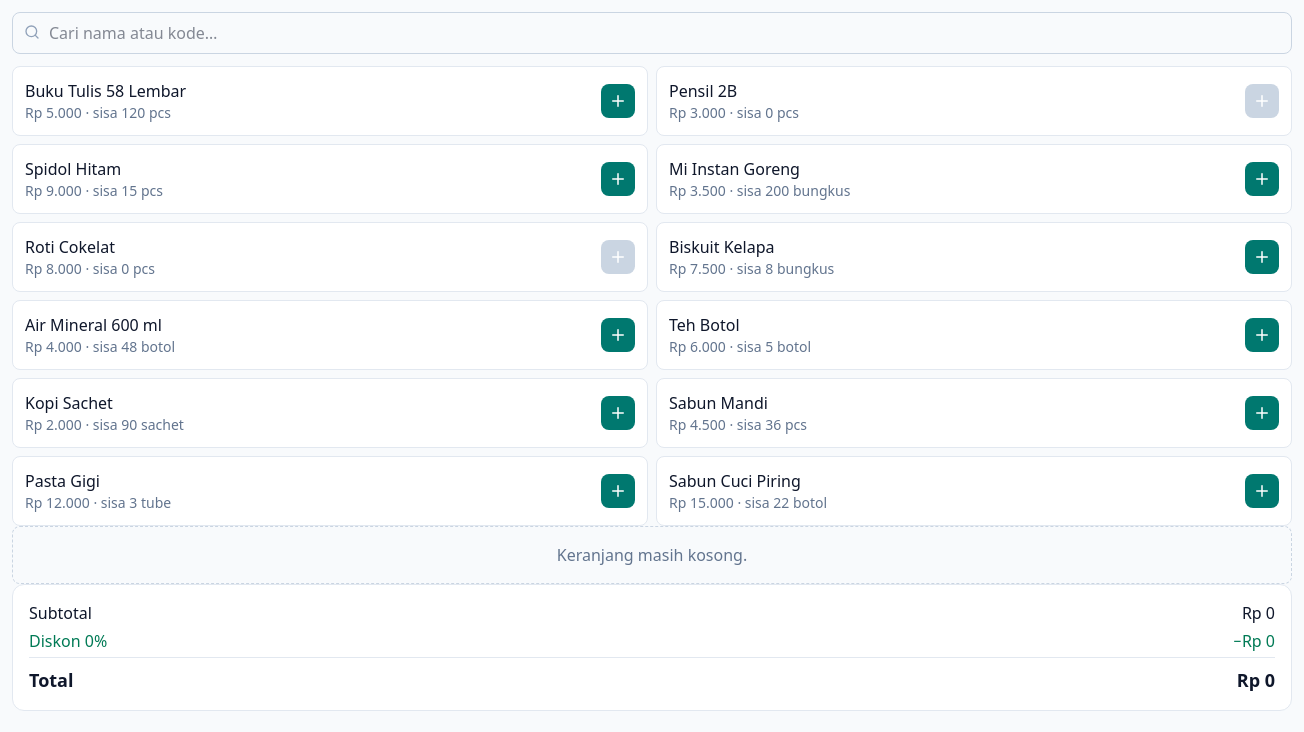
it: Kasir: keranjang dan diskon › menghapus barang dari keranjang
Step 1. Click the button named "Tambah Teh Botol ke keranjang" → (1262, 335), box x1=1245 y1=318 x2=1279 y2=352
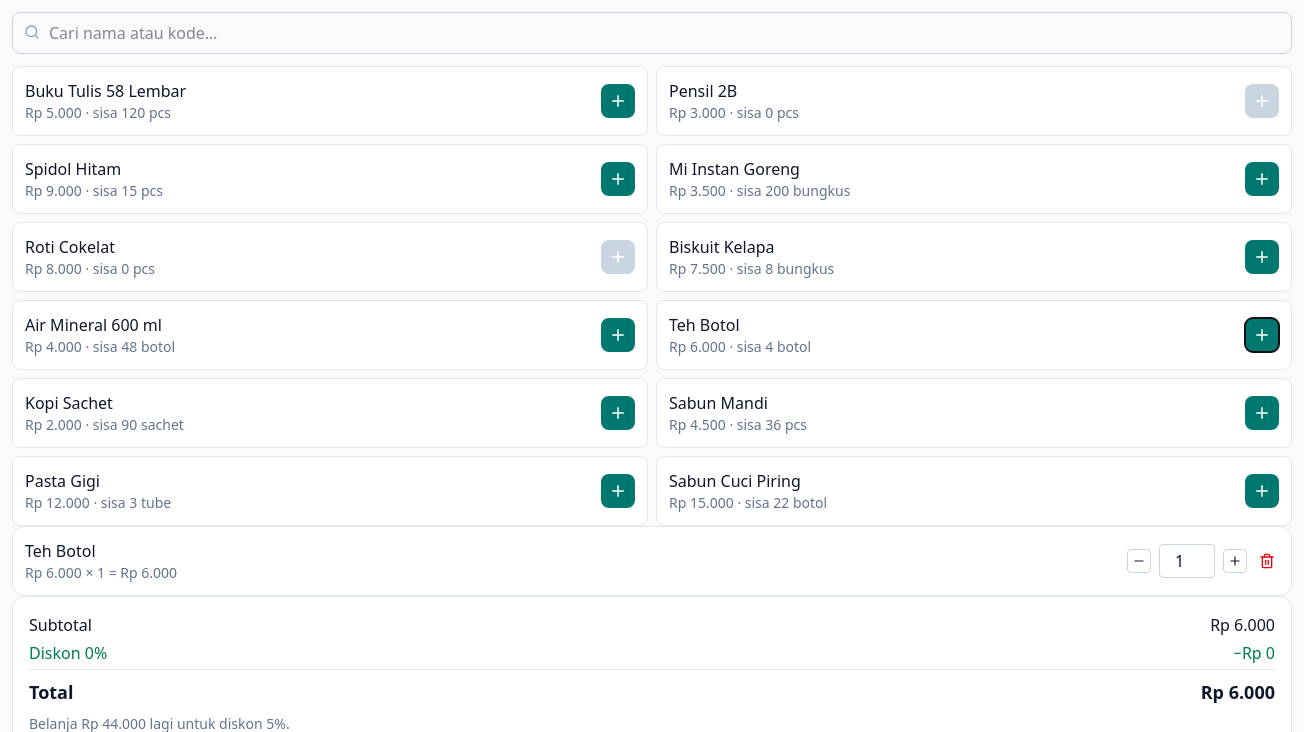
Step 2. Click the button named "Hapus Teh Botol dari keranjang" → (1267, 561), box x1=1255 y1=549 x2=1279 y2=573
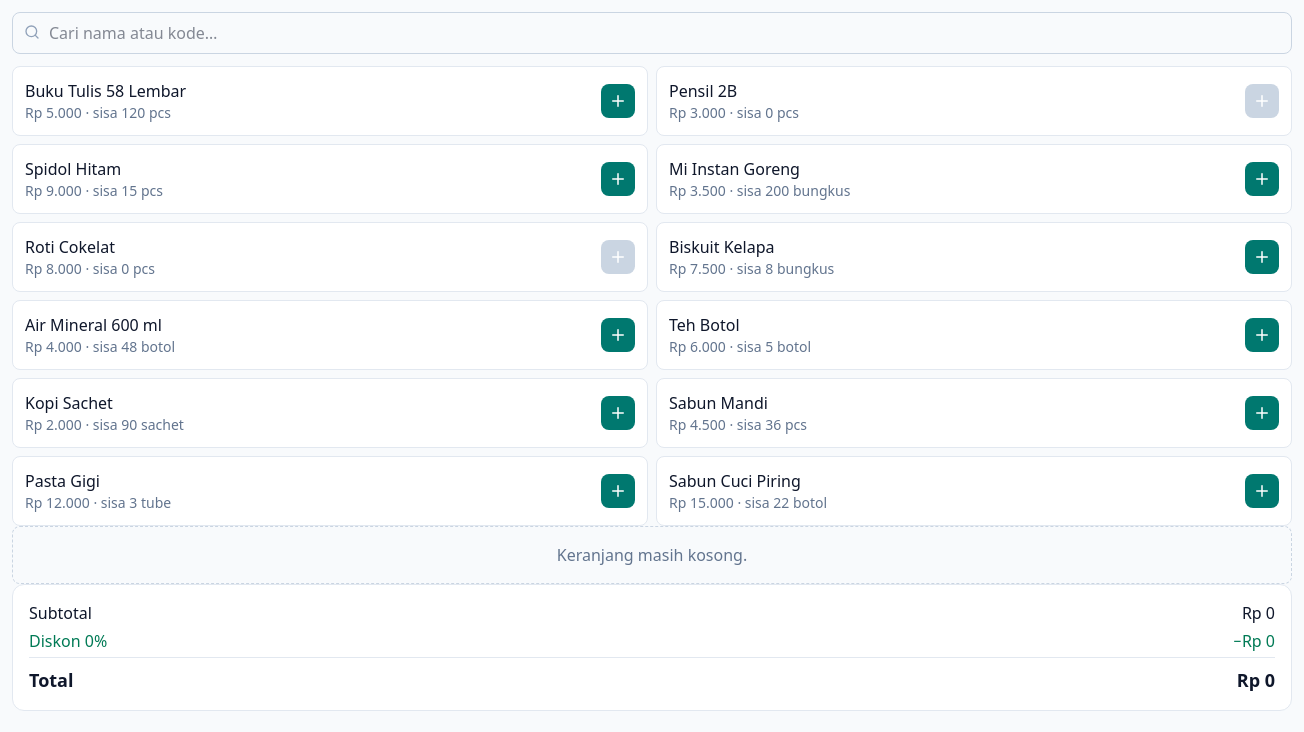
Expected: the text "Keranjang masih kosong." is shown, x1=12 y1=526 x2=1292 y2=584
